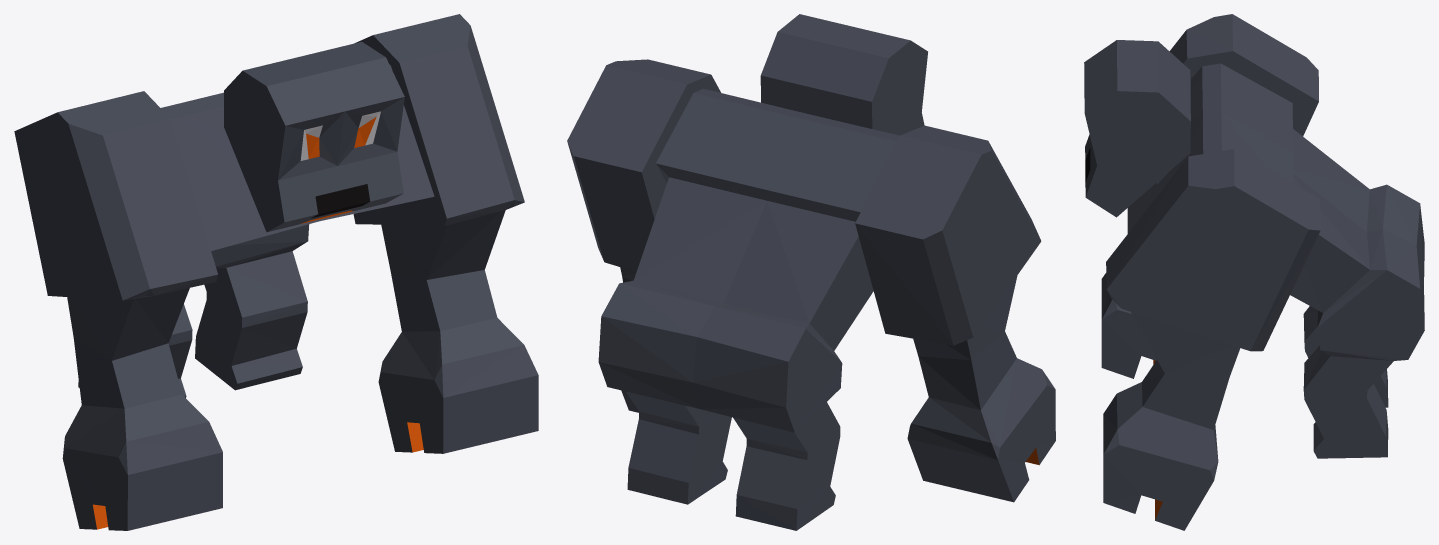
File: kong_000032.obj
The picture shows the model from 3 angles, left to right: view 1: azimuth 30°, elevation 25°; view 2: azimuth 150°, elevation 25°; view 3: azimuth 270°, elevation 25°; orthographic projection. The views are drawn at different scales.
Visible parts, largest first — view 1: Cube; view 2: Cube; view 3: Cube.
Boxes of the visible parts, box(x1,y1,x2,y2) form: Cube: box(14, 14, 538, 530); Cube: box(567, 14, 1055, 530); Cube: box(1084, 14, 1424, 530).
Bounding box in the file's own units: 5.85 × 5.87 × 4.78.
1 material, 1 textured.
